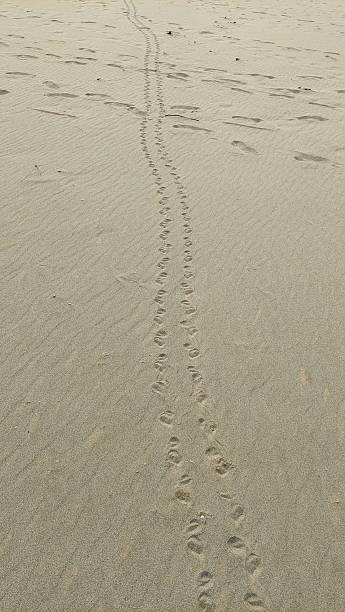animal_footprint: (206, 445, 233, 475), (186, 513, 205, 554), (197, 570, 214, 610), (175, 472, 191, 503), (227, 535, 245, 557), (167, 436, 181, 464), (244, 591, 264, 610), (245, 553, 261, 575), (159, 409, 174, 425), (230, 504, 243, 521), (152, 380, 166, 393)
